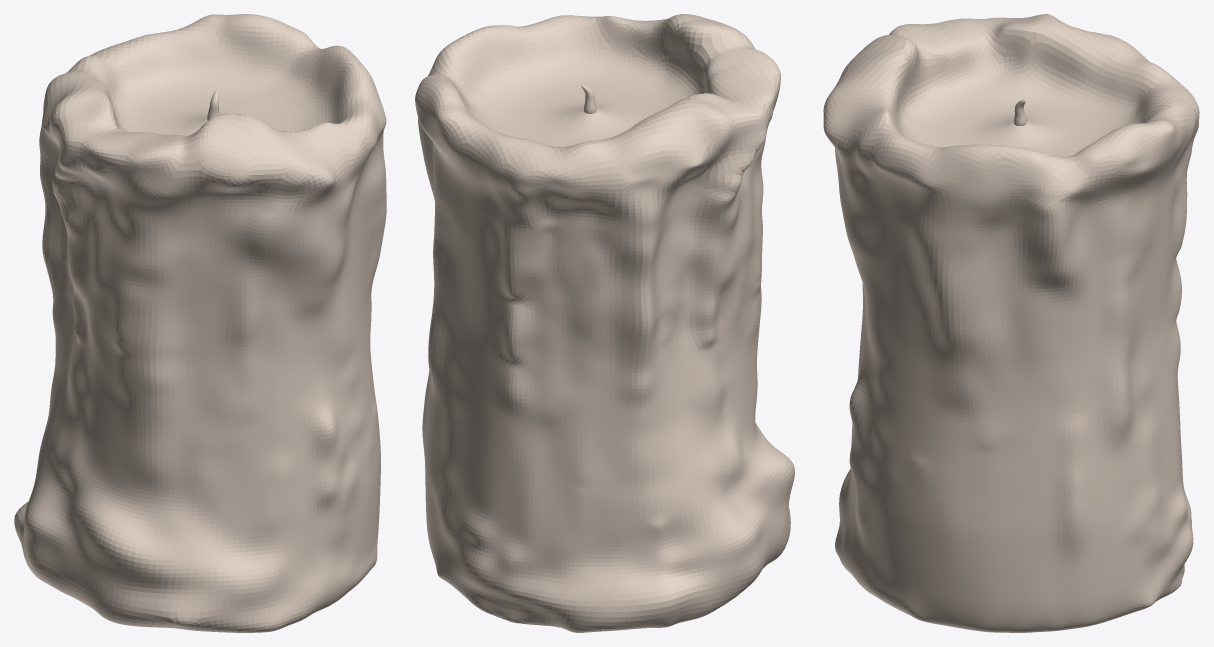
Rendered from Candle_2.fbx.
3 renders of one model, left to right at view 1: azimuth 30°, elevation 25°; view 2: azimuth 150°, elevation 25°; view 3: azimuth 270°, elevation 25°, orthographic.
Parts seen in each view (by area): view 1: Candle.002; view 2: Candle.002; view 3: Candle.002.
Part boxes in pixels (bbox=[...]): Candle.002: bbox=[14, 14, 386, 632]; Candle.002: bbox=[415, 14, 794, 632]; Candle.002: bbox=[823, 14, 1199, 632].
Size of the model in its own units: 40.82 by 60.62 by 40.38.
